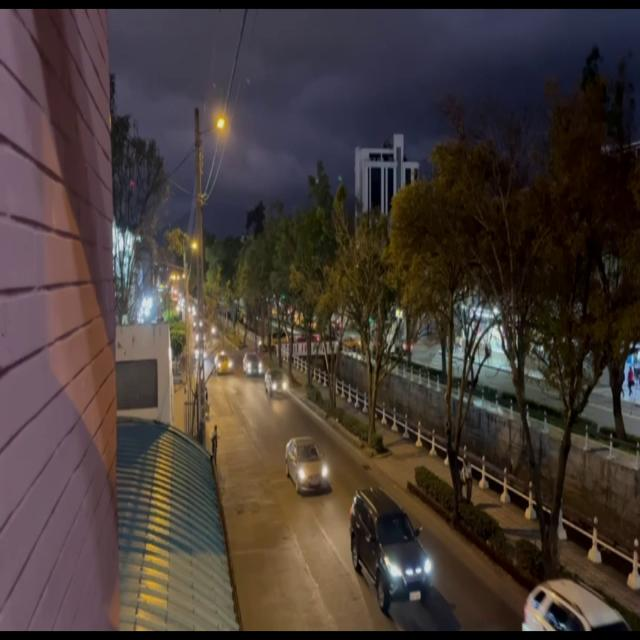SUV: (346, 487, 425, 598)
